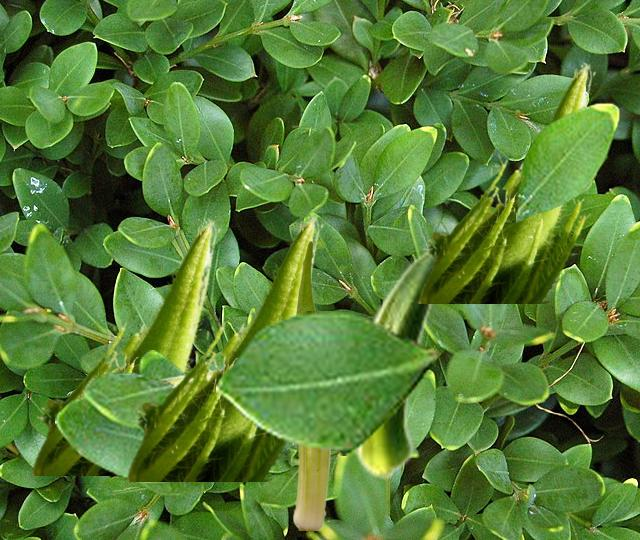okra: (123, 212, 323, 480), (28, 217, 220, 474), (415, 61, 595, 302), (350, 228, 452, 479), (293, 240, 330, 529), (162, 368, 220, 384)
